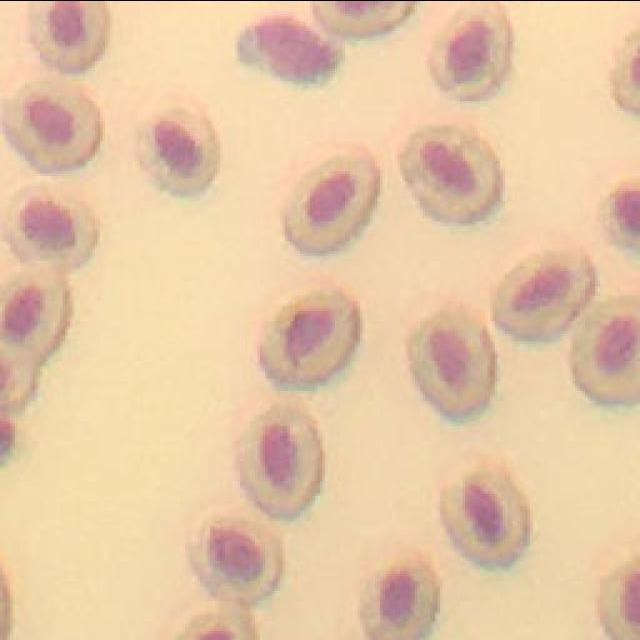RBC: (400, 122, 502, 220), (238, 405, 324, 518), (282, 152, 380, 250), (410, 310, 498, 418), (260, 290, 360, 385), (495, 250, 598, 338), (2, 78, 100, 170), (442, 470, 530, 565), (430, 0, 512, 98), (190, 518, 282, 600), (5, 185, 98, 265), (572, 295, 640, 400), (360, 552, 440, 640), (137, 108, 220, 192), (0, 270, 70, 360), (30, 0, 108, 70), (312, 0, 415, 37), (162, 600, 256, 640), (602, 565, 640, 640), (602, 178, 639, 255), (612, 25, 640, 114)
WBC: (238, 15, 340, 80)
